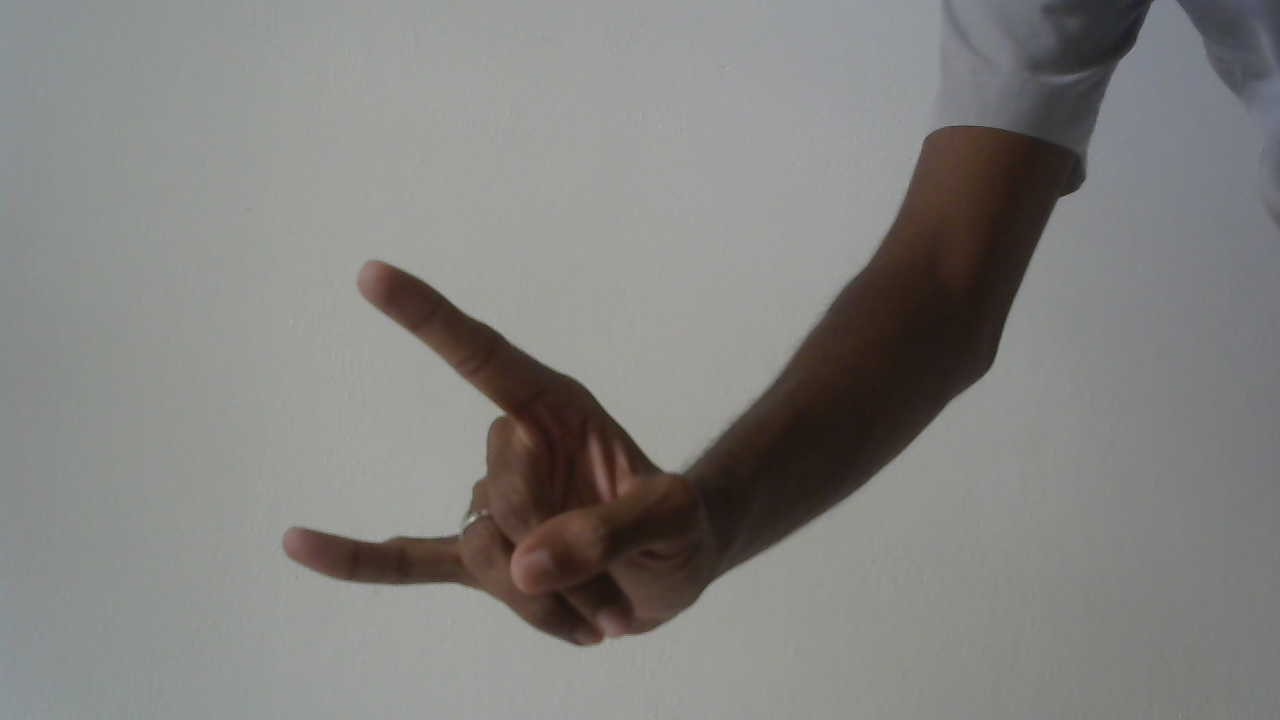iloveyou: (275, 245, 739, 664)
